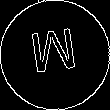M_S: (28, 27, 82, 83)
